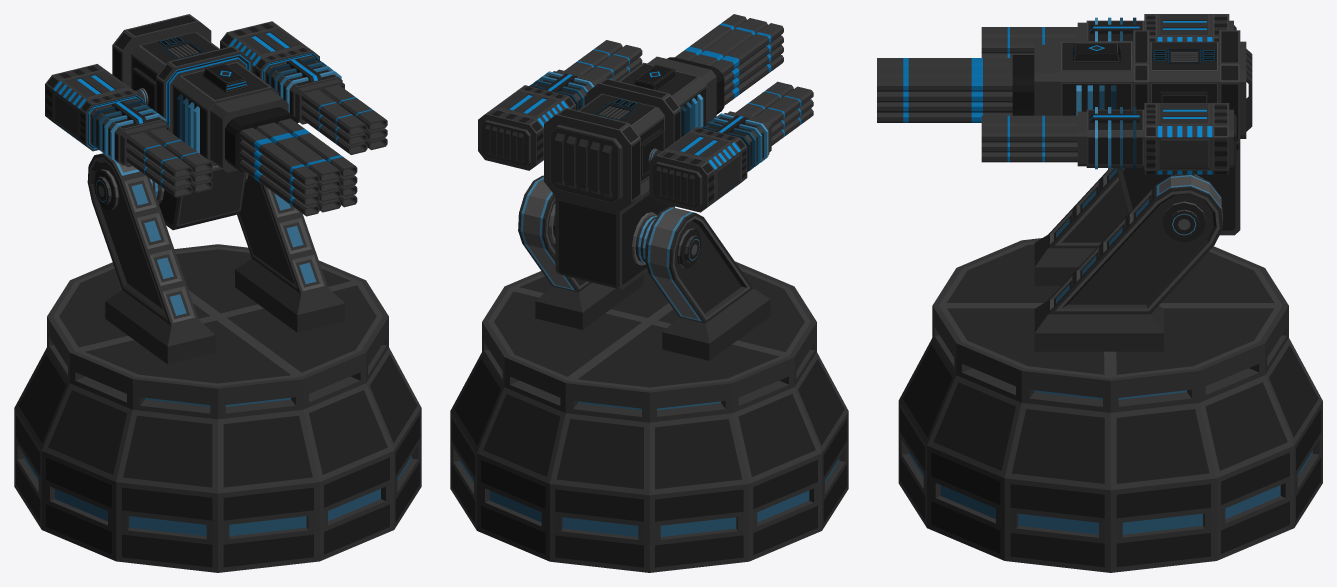
3 views of the same model, side by side, from view 1: azimuth 30°, elevation 25°; view 2: azimuth 150°, elevation 25°; view 3: azimuth 270°, elevation 25° (orthographic). The views are drawn at different scales.
Parts seen in each view (by area): view 1: PTB, BT1, NTB, BTD2; view 2: PTB, BT1, BTD2, NTB; view 3: PTB, BT1, NTB, BTD2.
Boxes of the visible parts, box(x1,y1,x2,y2) form: PTB: box(14, 244, 421, 572); BT1: box(112, 14, 357, 230); NTB: box(87, 153, 345, 364); BTD2: box(45, 21, 387, 197); PTB: box(450, 261, 848, 572); BT1: box(544, 14, 783, 289); BTD2: box(478, 40, 813, 212); NTB: box(518, 175, 770, 360); PTB: box(898, 238, 1322, 572); BT1: box(877, 30, 1252, 235); NTB: box(1034, 168, 1222, 351); BTD2: box(981, 14, 1236, 174).
Size of the model in its own units: 782 by 888 by 821.
